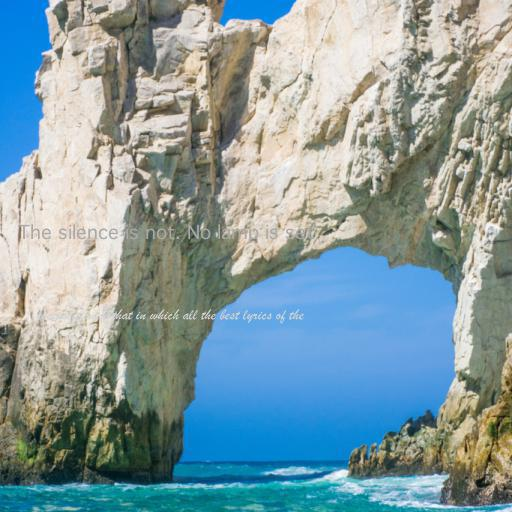Brush Script MT: (36, 309, 304, 324)
Geneva: (18, 224, 314, 243)
